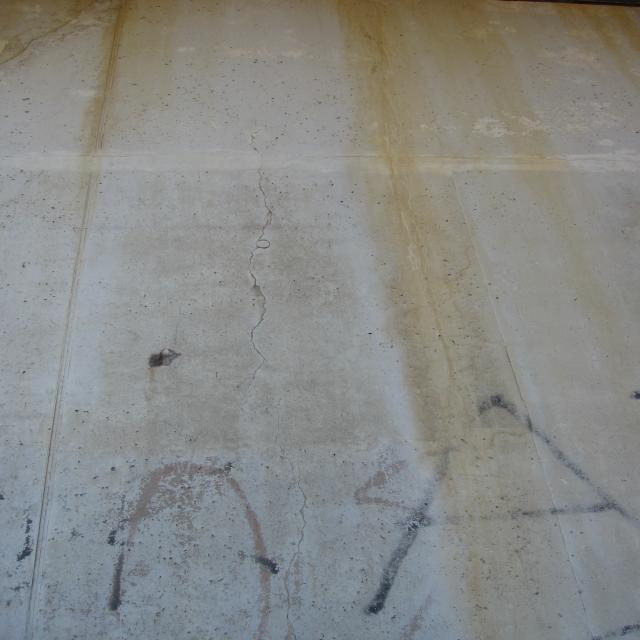corrosion: (325, 0, 640, 636), (0, 0, 230, 172), (149, 355, 166, 385)
